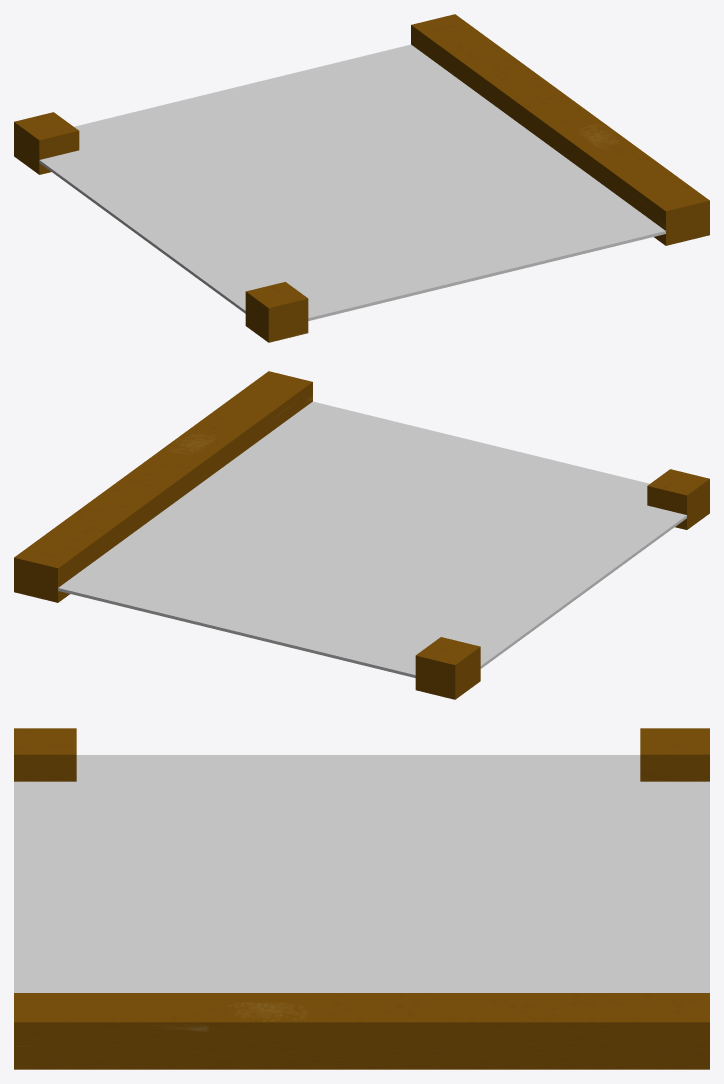
The model's file is FI-005 Walkways-T.fbx.
The picture shows the model from 3 angles, top to bottom: view 1: azimuth 30°, elevation 25°; view 2: azimuth 150°, elevation 25°; view 3: azimuth 270°, elevation 25°; orthographic projection. The views are drawn at different scales.
Parts seen in each view (by area): view 1: FI-005-T-Walkway; view 2: FI-005-T-Walkway; view 3: FI-005-T-Walkway.
Boxes of the visible parts, x1=… form: FI-005-T-Walkway: x1=14, y1=14, x2=709, y2=342; FI-005-T-Walkway: x1=14, y1=371, x2=709, y2=699; FI-005-T-Walkway: x1=14, y1=728, x2=709, y2=1069.
Bounding box in the file's own units: 200 × 15 × 200.
